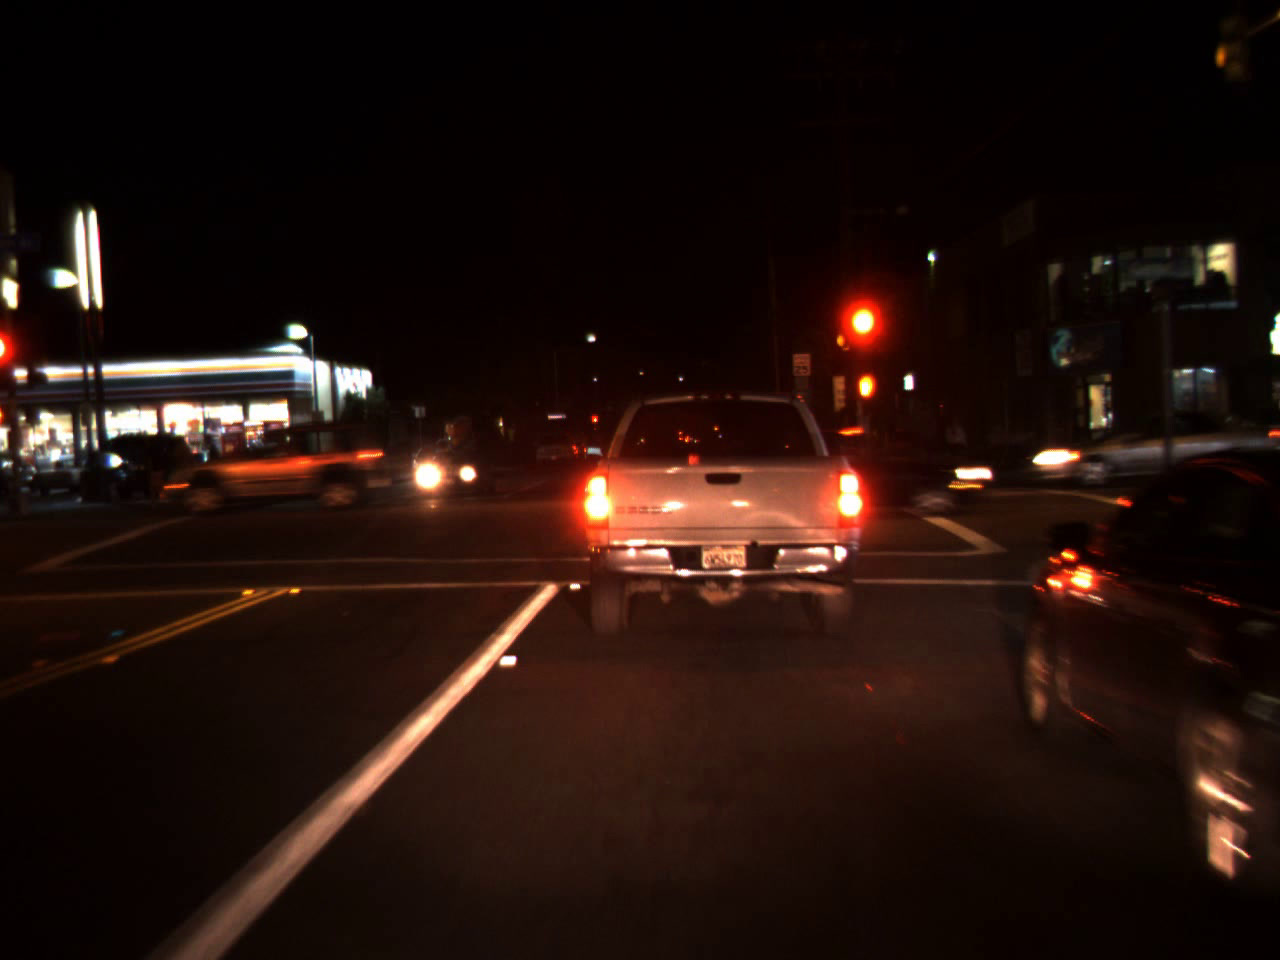stop: (844, 304, 880, 368), (590, 414, 599, 430)
